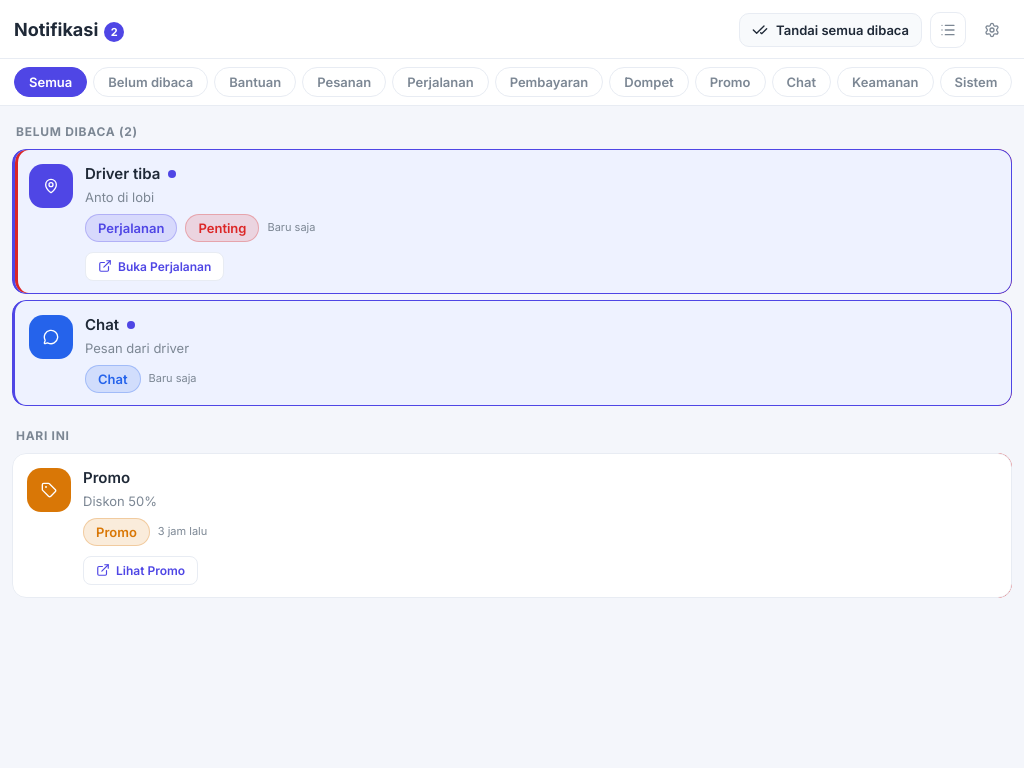
NotificationInbox — accessibility › bulk action bar has toolbar role and label
Expected: the text "Driver tiba" is shown, [85,164,160,184]
What coordinates should you click on to do the following:
click the button named "Mode pilih"
I would click on:
 (948, 30)
Its box is [930,12,966,48].
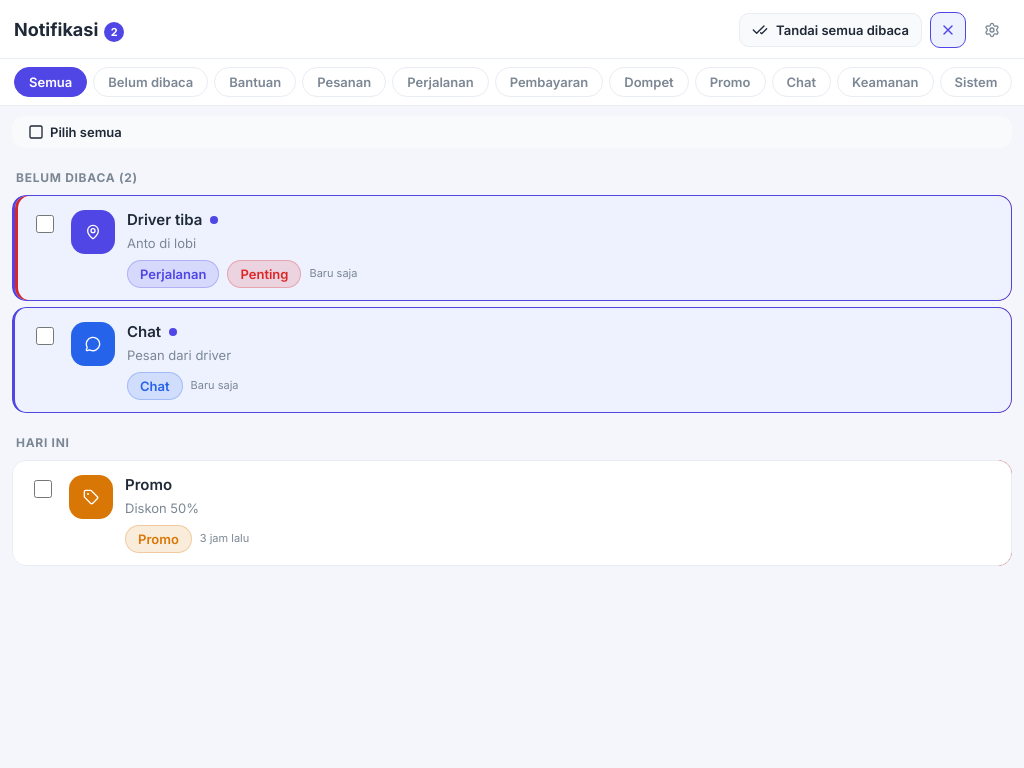
Result: the button labelled "Pilih semua" is shown
What coordinates should you click on to do the following:
click the button labelled "Pilih semua"
I would click on:
 (75, 132)
Its box is [18,120,132,144].
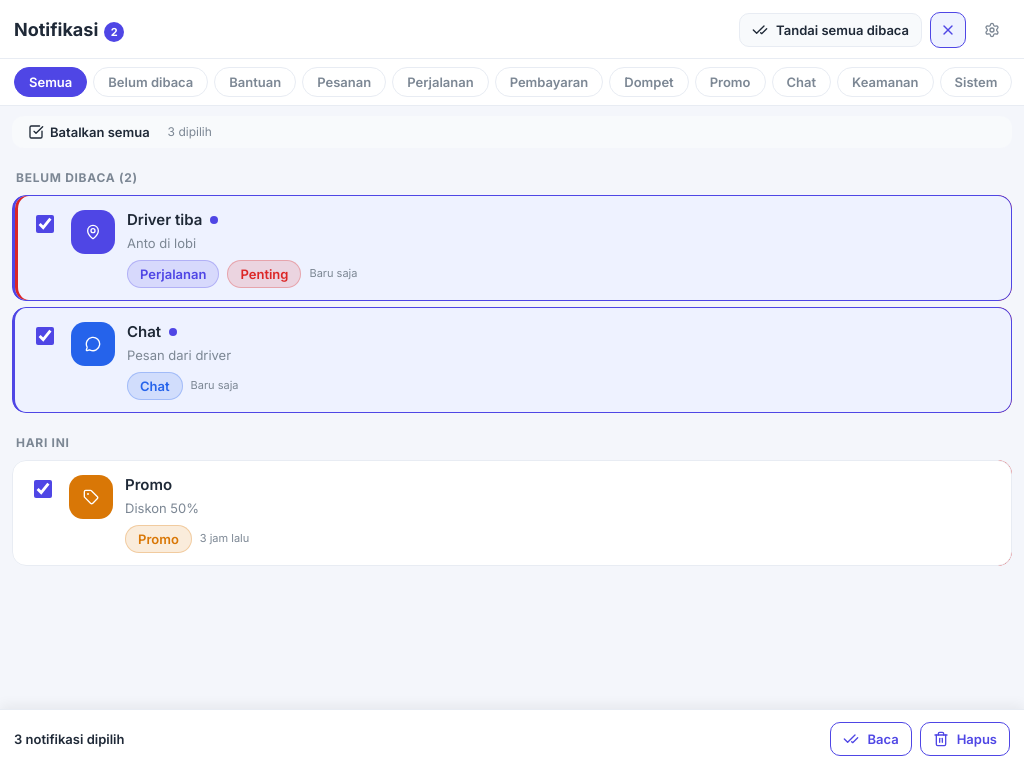
Result: the element named "Aksi massal" is shown at [0,709,1023,767]
